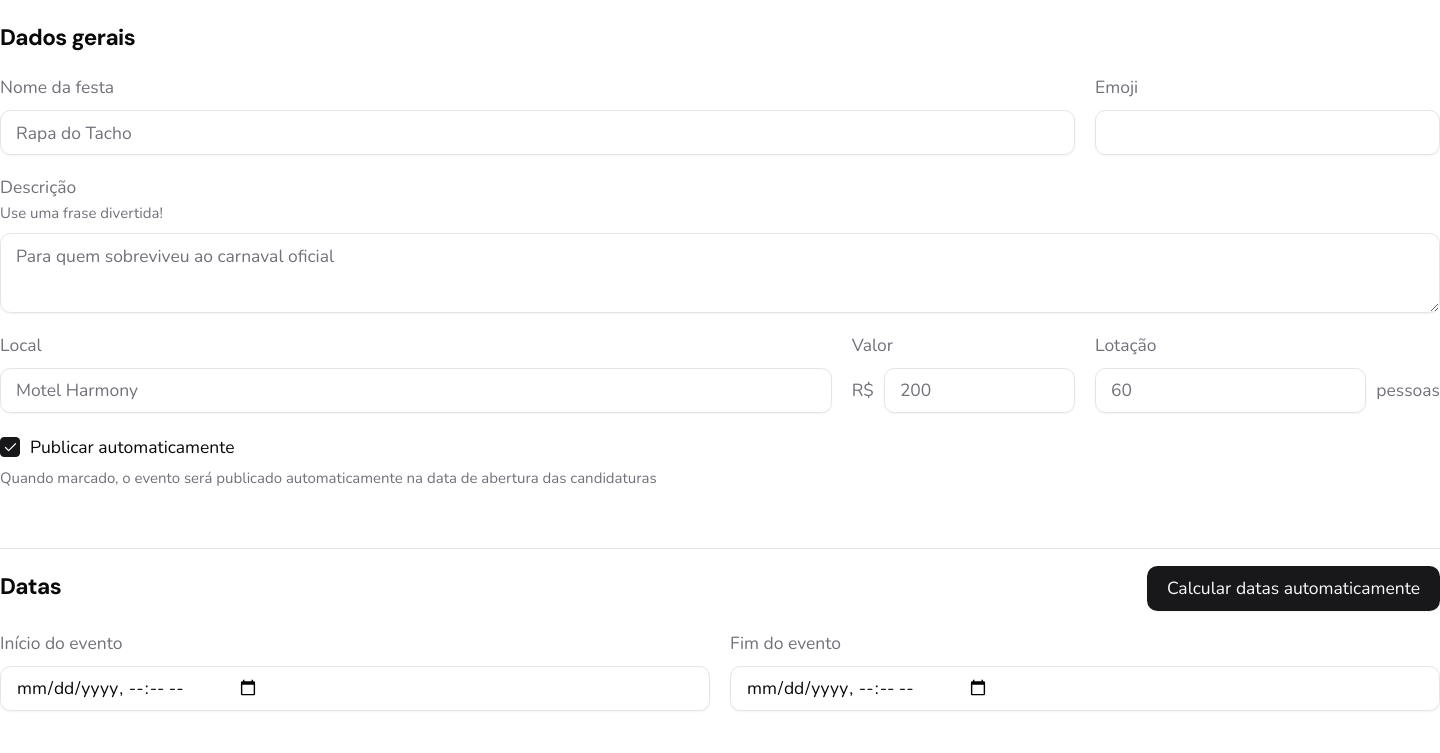
it: EventForm › working the dates out › fills the rest in from the time the event starts
This screenshot has width=1440, height=753.
In the field labelled "Início do evento": (355, 688) [0, 666, 710, 710], type "2026-02-01T10:00"
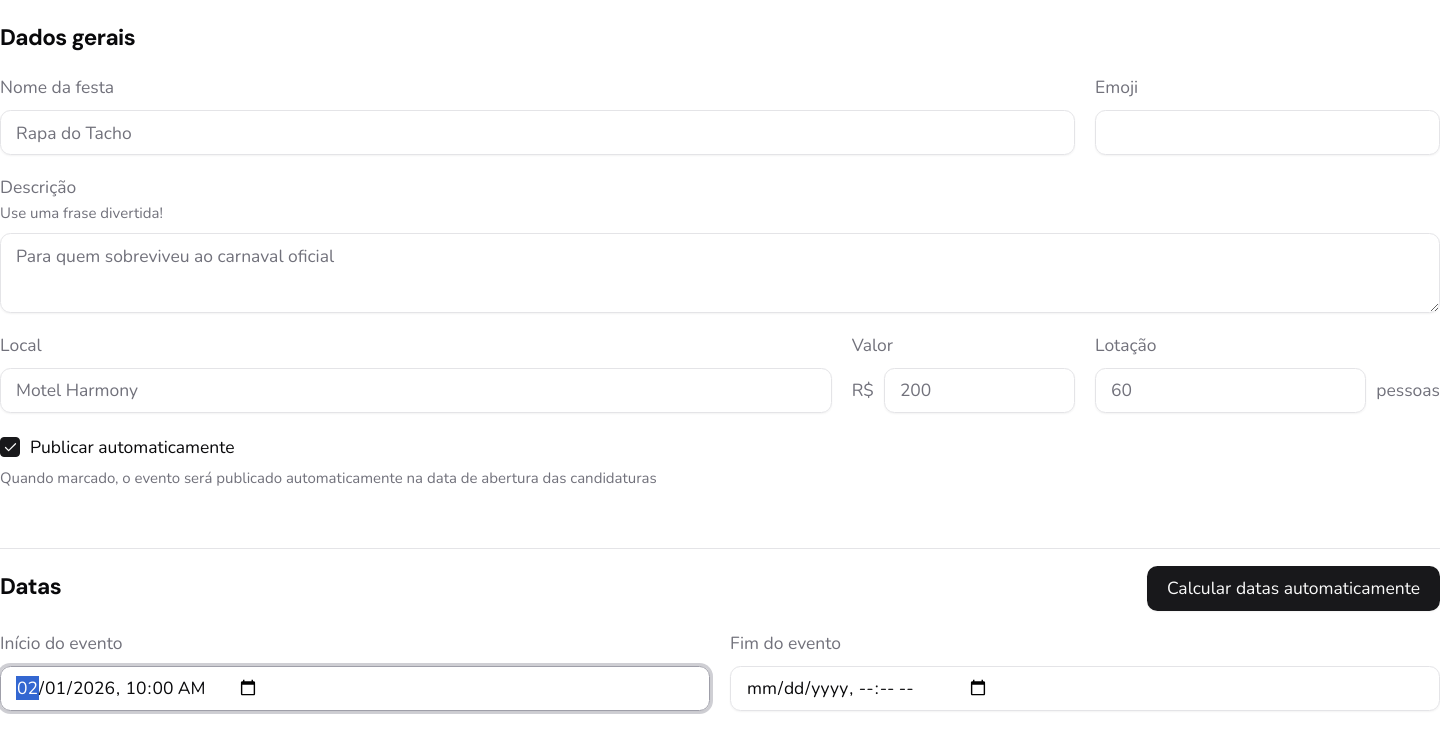
Click the button "Calcular datas automaticamente": click(1293, 588) [1147, 566, 1439, 610]
(page scrolled)
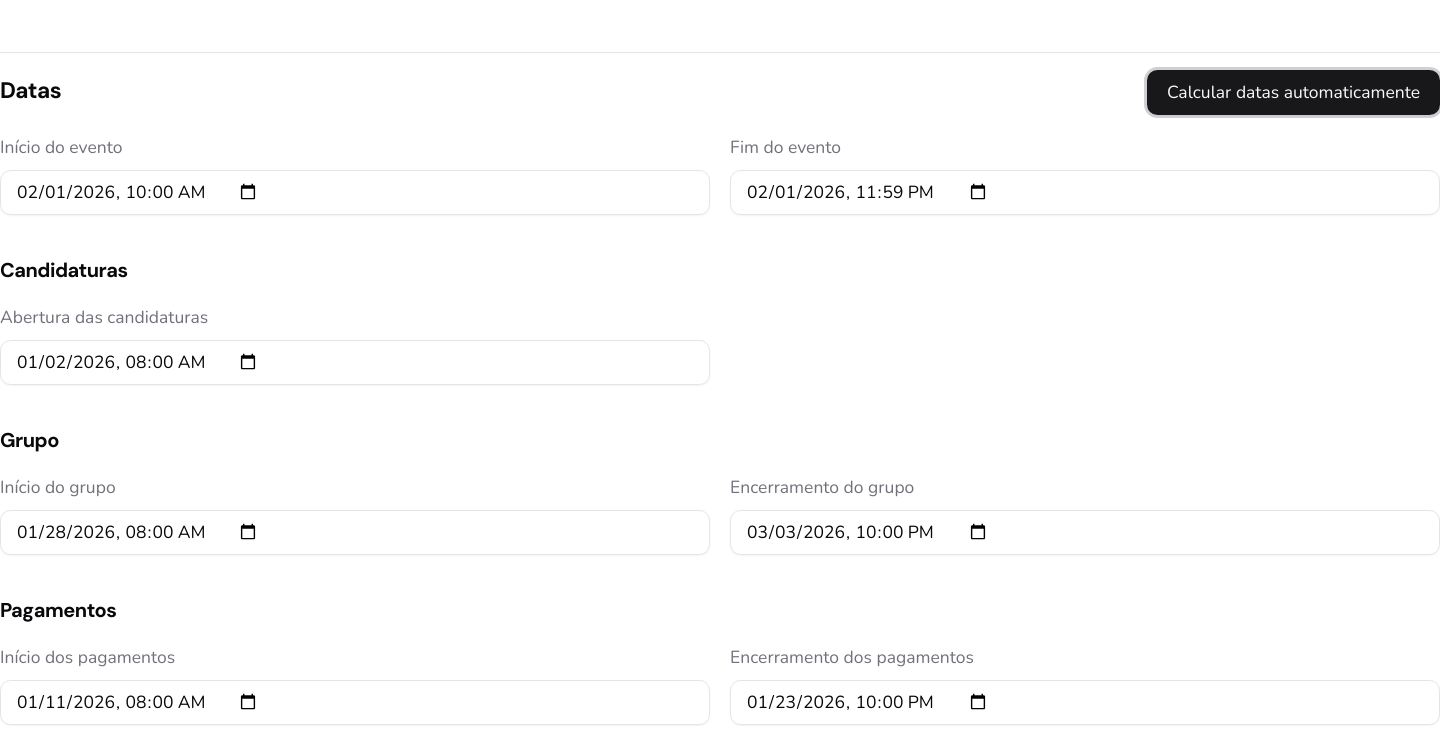
Result: the field labelled "Fim do evento" holds "2026-02-01T23:59" at [730, 170, 1439, 214]
Result: the field labelled "Abertura das candidaturas" holds "2026-01-02T08:00" at [0, 340, 710, 384]
Result: the field labelled "Início do grupo" holds "2026-01-28T08:00" at [0, 510, 710, 554]
